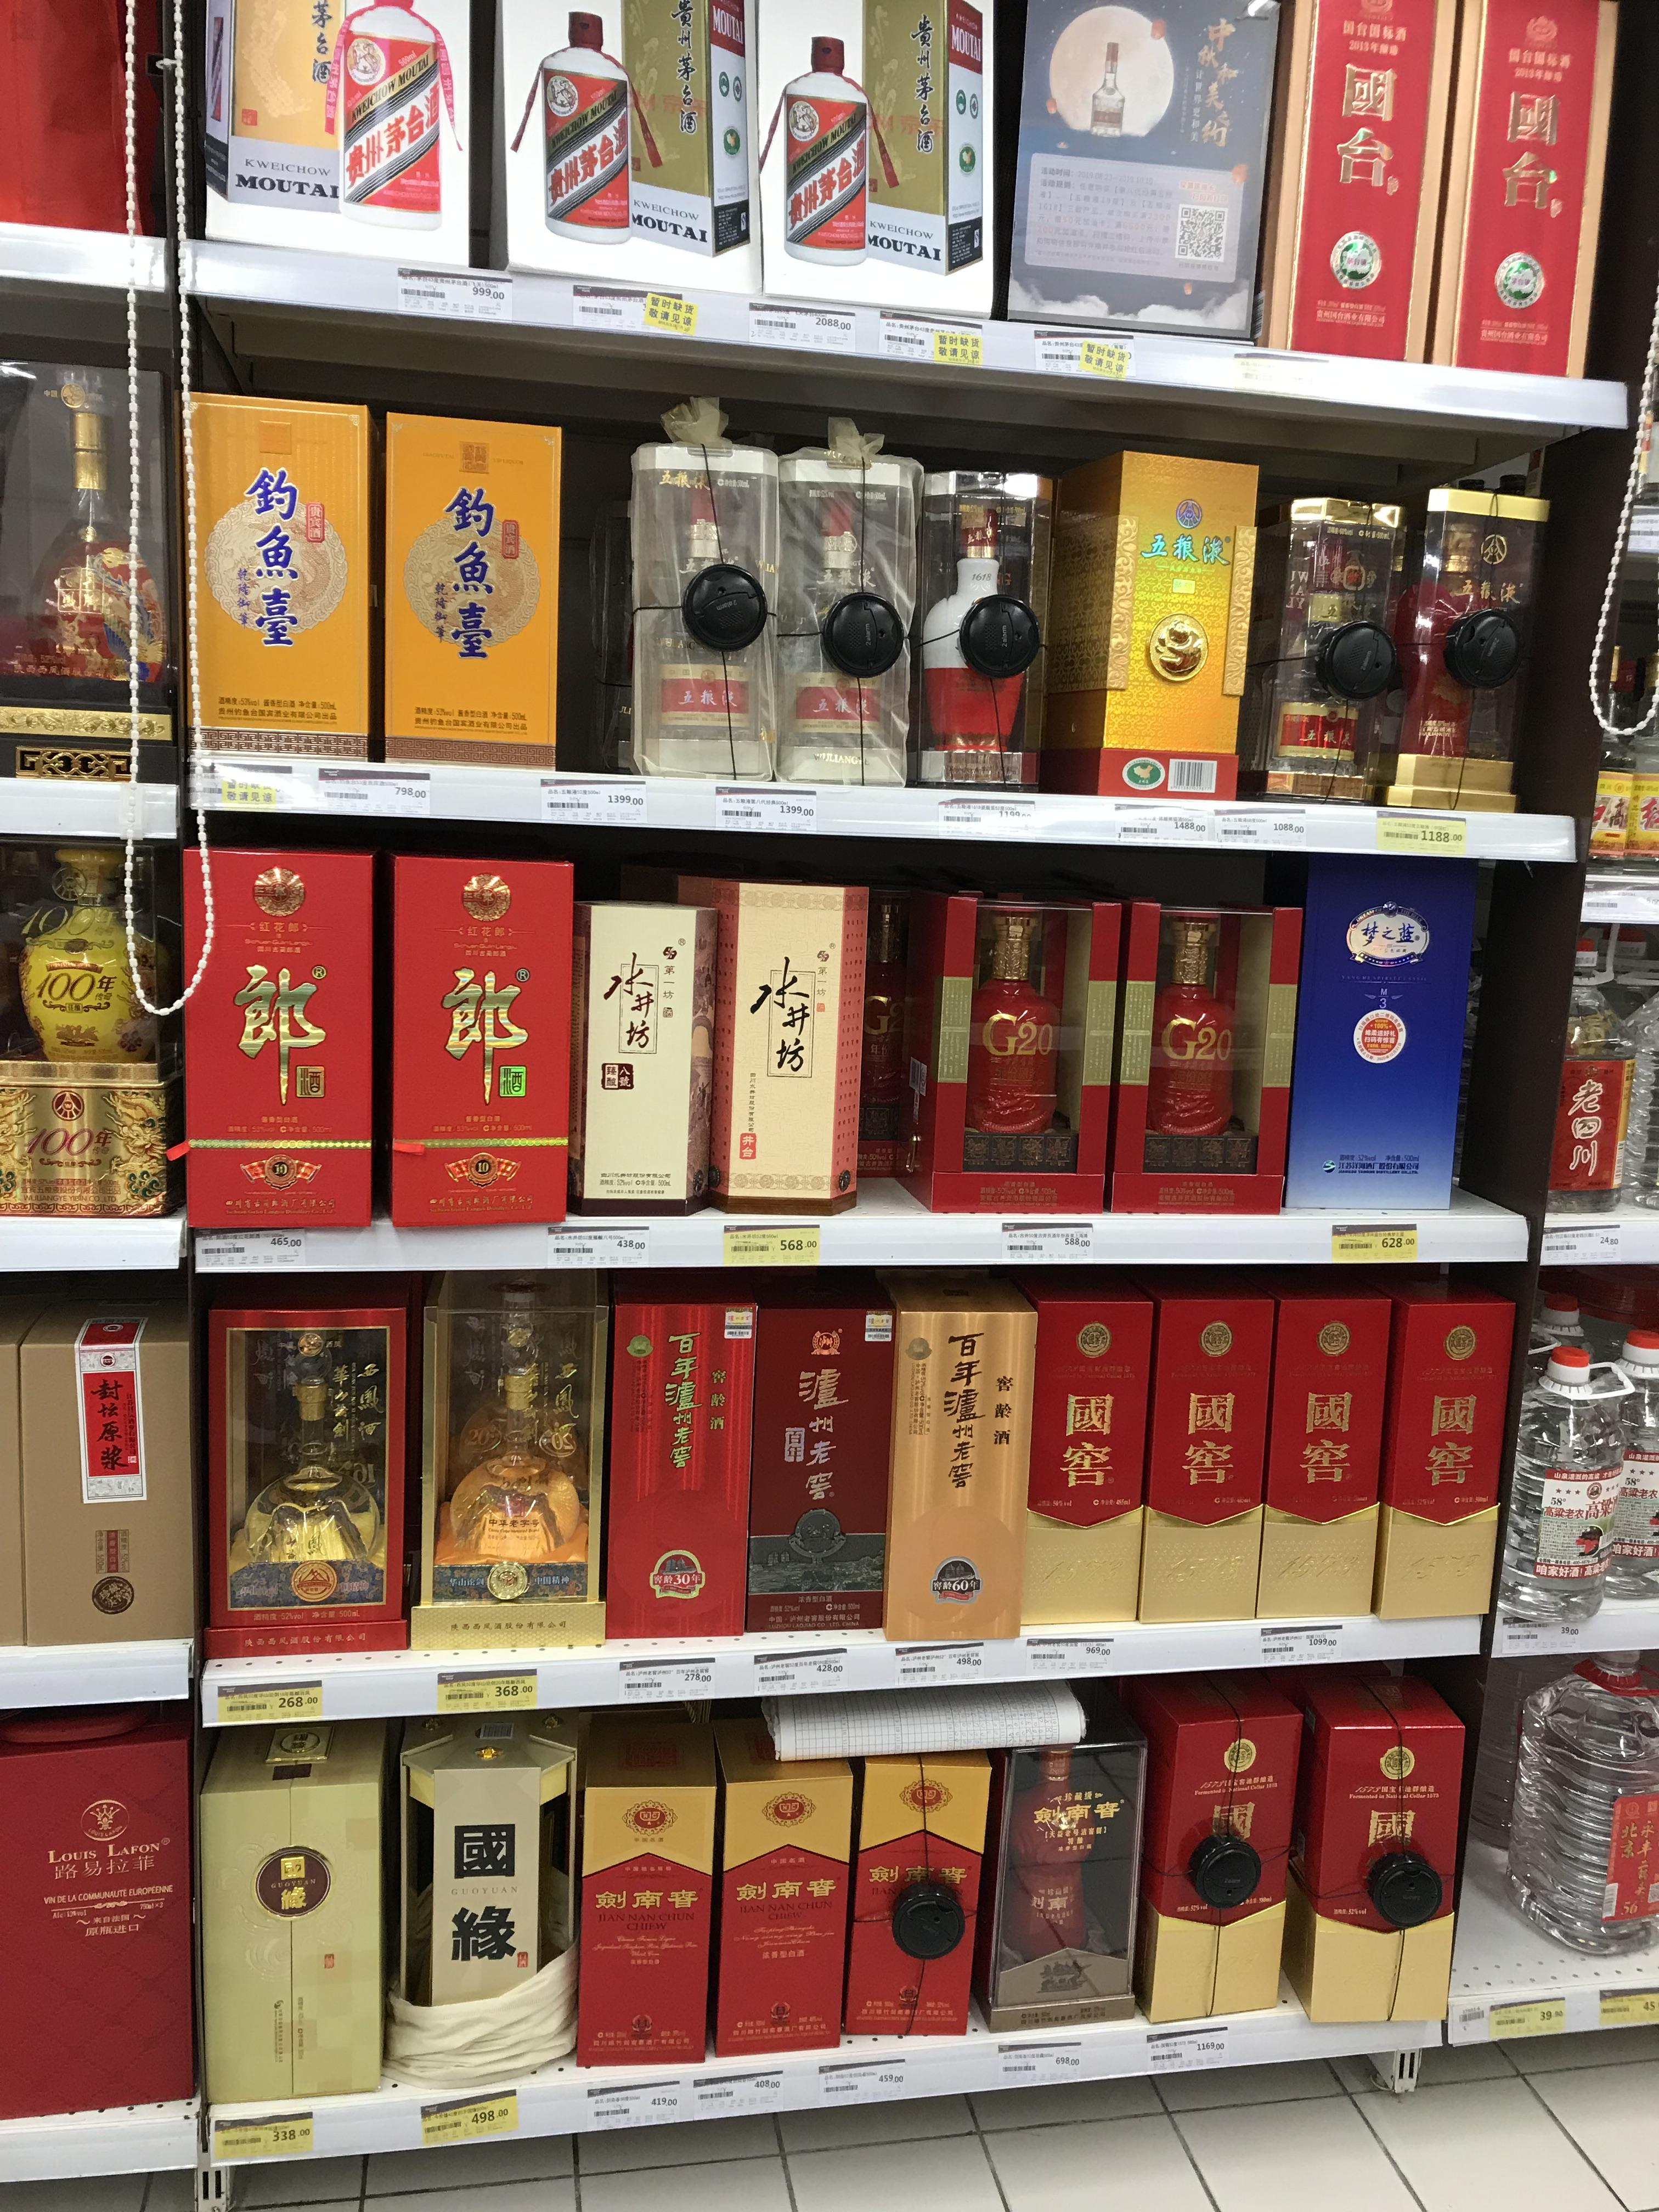bag: (195, 0, 481, 286), (1115, 1663, 1300, 2027), (1542, 925, 1659, 1216)
bottle: (737, 5, 983, 319), (0, 361, 167, 780), (3, 841, 176, 1231), (498, 5, 739, 282), (394, 1717, 565, 2081), (1391, 493, 1551, 812), (995, 1723, 1143, 2045), (911, 472, 1051, 798), (1262, 496, 1396, 815), (772, 451, 901, 780), (1497, 1298, 1603, 1609), (1582, 625, 1659, 873), (1586, 1346, 1657, 1604)
box: (1384, 5, 1621, 395), (5, 1676, 193, 2130), (181, 392, 387, 773), (192, 1723, 390, 2109), (378, 850, 575, 1228), (411, 1277, 601, 1665), (0, 1291, 192, 1669), (1051, 463, 1251, 796), (1274, 1662, 1464, 2005), (906, 904, 1114, 1217), (725, 1277, 901, 1637), (612, 442, 782, 787), (598, 1270, 753, 1637), (875, 1273, 1026, 1644), (702, 881, 870, 1214), (563, 880, 713, 1221), (1356, 1289, 1514, 1608), (1126, 906, 1290, 1214), (568, 1721, 711, 2071), (1006, 1264, 1145, 1613), (1129, 1268, 1267, 1608), (1251, 1277, 1392, 1599), (706, 1754, 850, 2059), (840, 1737, 971, 2048)
bucket: (1507, 1641, 1654, 1959)
others: (1246, 0, 1486, 368), (1006, 0, 1260, 324), (167, 829, 373, 1228), (209, 1287, 406, 1656), (375, 421, 570, 772), (1290, 850, 1471, 1202), (5, 0, 150, 246), (629, 0, 746, 256)
